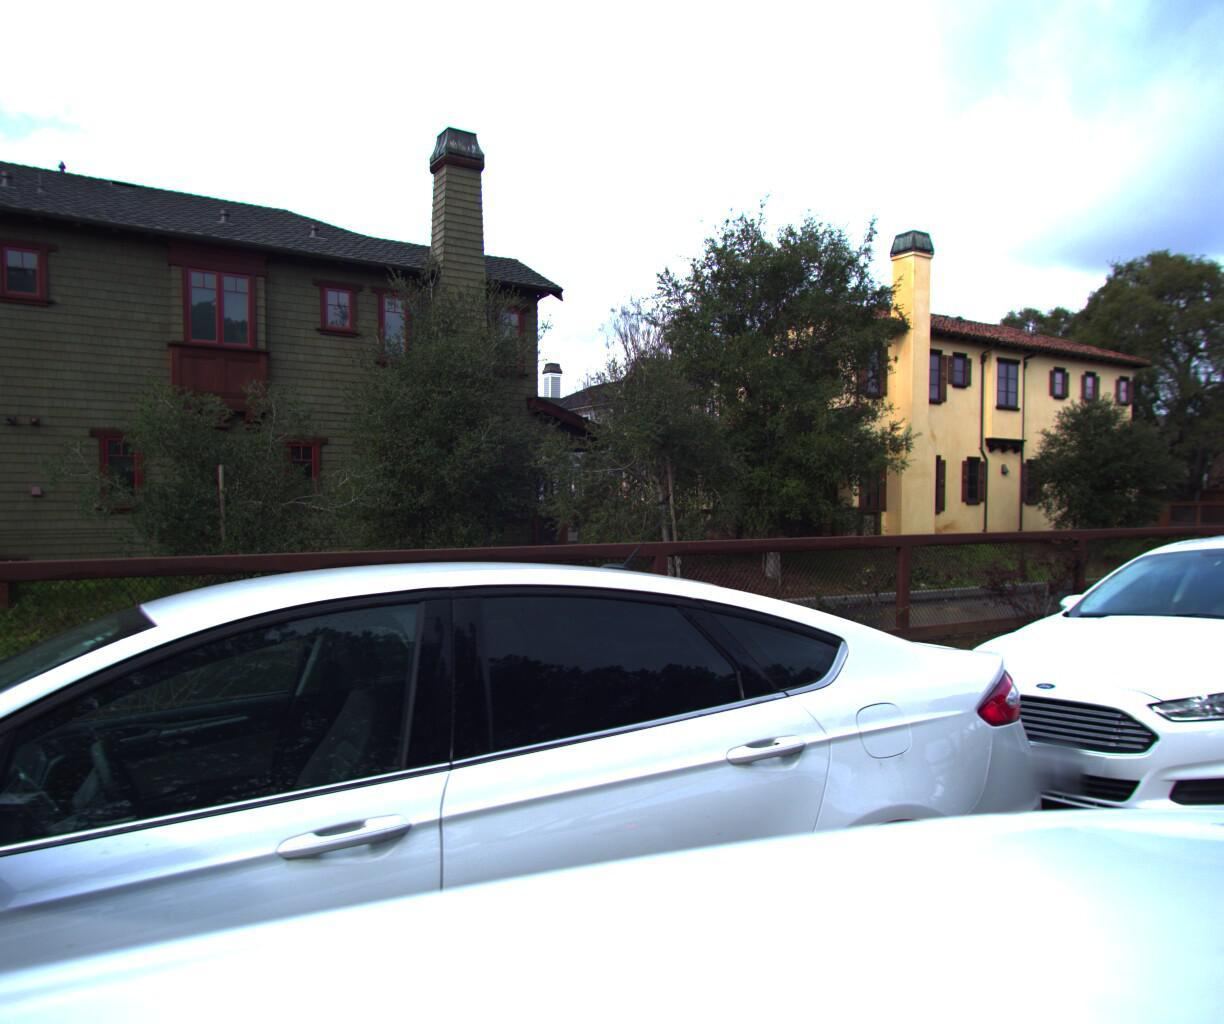car: (0, 522, 1133, 1024), (896, 510, 1224, 911)
